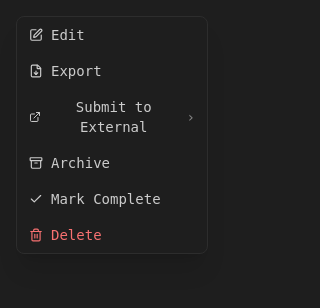
Test: TaskContextMenu Basic Tests › External Submit Menu › should toggle external menu when Submit to External is clicked
The image size is (320, 308).
Expected: the text "Choose System..." is not shown
Click the button "Submit to External ›".
click(112, 117)  # box [17,89,207,145]
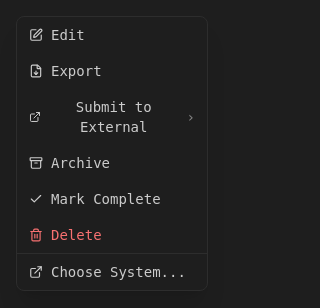
Expected: the button "Choose System..." is shown, [17,254,207,290]
Note: Click again to close external menu
Click the button "Submit to External ›".
click(112, 117)  # box [17,89,207,145]
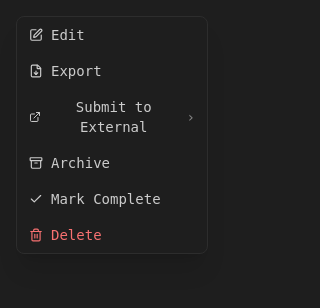
Expected: the button "Choose System..." is gone
